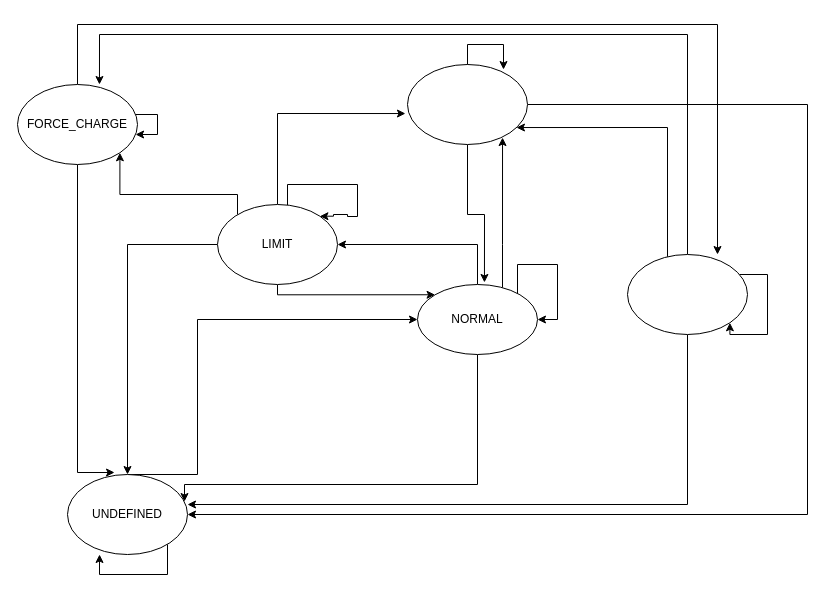
The diagram is 833 pixels wide and 600 high, and some of its shapes have lost their labels. Here are the shapes that lost their labels. From the top down, the centre of each, then its label:
At point 467,104: "FULL_CHARGE".
At point 687,294: "CHECK".
